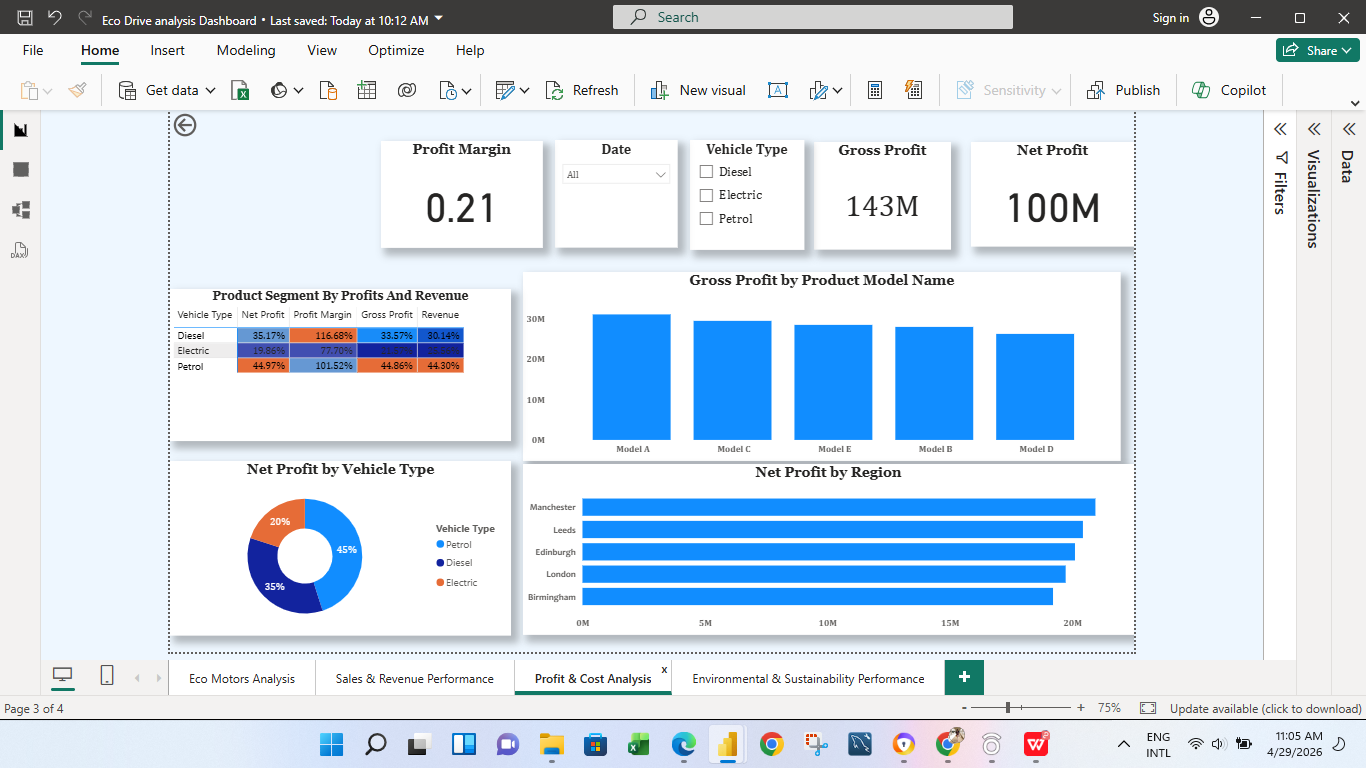

The dashboard page shown, as its layout file describes it:
{"tool":"powerbi","page":{"name":"Profit & Cost Analysis","canvas":[1280,720],"ordinal":2},"visuals":[{"type":"card","title":"Net Profit","fields":{"Values":["Sales Details.Net Profit"]},"box":[1064.1,42.5,216.5,139.5],"z":0},{"type":"columnChart","title":"Gross Profit by Product Model Name","fields":{"Y":["Order Details.Gross Profit"],"Category":["Order Details.Model Name"]},"box":[468.9,215.2,794.4,251.1],"z":1000},{"type":"donutChart","fields":{"Category":["Sales Details.Vehicle Type"],"Y":["Sales Details.Net Profit"]},"box":[0,466.2,453.4,231.7],"z":2000},{"type":"barChart","fields":{"Category":["Sales Details.Region"],"Y":["Sales Details.Net Profit"]},"box":[468.9,470.3,811.7,227.2],"z":3000},{"type":"card","title":"Gross Profit","fields":{"Values":["Order Details.Gross Profit"]},"box":[855.2,42.9,181.6,143],"z":4000},{"type":"pivotTable","title":"Product Segment By Profits And Revenue","fields":{"Values":["Sales Details.Net Profit","Sales Details.Profit Margin","Order Details.Gross Profit","Sales Details.Revenue"],"Rows":["Sales Details.Vehicle Type"]},"box":[0,237.8,453,201.9],"z":5000},{"type":"slicer","title":"Vehicle Type","fields":{"Values":["Order Details.Vehicle Type"]},"box":[690.8,40,151.6,145.9],"z":6000},{"type":"slicer","title":"Date","fields":{"Values":["Date Table.Date"]},"box":[512,40,163,143],"z":7000},{"type":"actionButton","box":[0,0,100,40],"z":8000},{"type":"card","title":"Profit Margin","fields":{"Values":["Sales Details.Profit Margin"]},"box":[280.3,41.5,214.5,141.6],"z":9000}]}

Visuals, with their boxes on the page's 1280x720 design canvas (x1, y1, x2, y2). These are canvas units, not pixel positions in the 1366x768 screenshot, which may show the page scaled, cropped or inside an application window:
"Net Profit" card: pyautogui.locateOnScreen(1064, 42, 1281, 182)
"Gross Profit by Product Model Name" columnChart: pyautogui.locateOnScreen(469, 215, 1263, 466)
donutChart - Sales Details.Vehicle Type x Sales Details.Net Profit: pyautogui.locateOnScreen(0, 466, 453, 698)
barChart - Sales Details.Region x Sales Details.Net Profit: pyautogui.locateOnScreen(469, 470, 1281, 698)
"Gross Profit" card: pyautogui.locateOnScreen(855, 43, 1037, 186)
"Product Segment By Profits And Revenue" pivotTable: pyautogui.locateOnScreen(0, 238, 453, 440)
"Vehicle Type" slicer: pyautogui.locateOnScreen(691, 40, 842, 186)
"Date" slicer: pyautogui.locateOnScreen(512, 40, 675, 183)
actionButton: pyautogui.locateOnScreen(0, 0, 100, 40)
"Profit Margin" card: pyautogui.locateOnScreen(280, 42, 495, 183)
